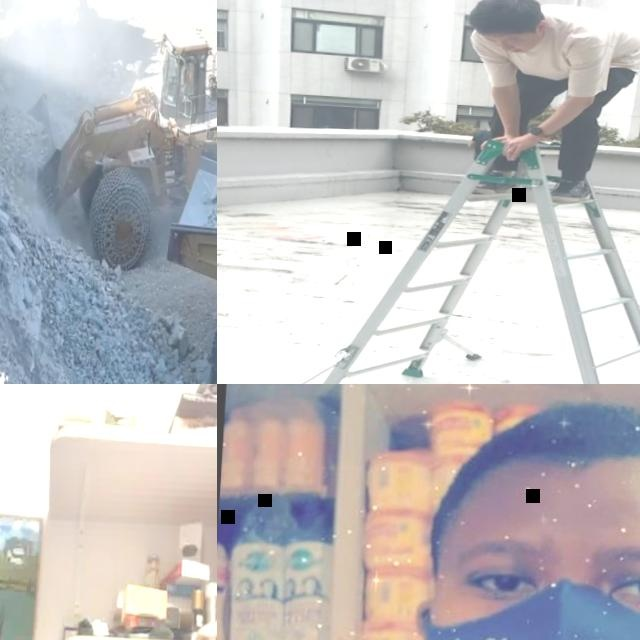NO-Hardhat: (444, 391, 640, 539), (467, 0, 543, 36)
NO-Mask: (507, 34, 544, 56)
NO-Safety Vest: (501, 1, 640, 83)
Person: (217, 384, 640, 640), (455, 0, 640, 208), (0, 554, 217, 640)
machinery: (20, 14, 217, 283)
